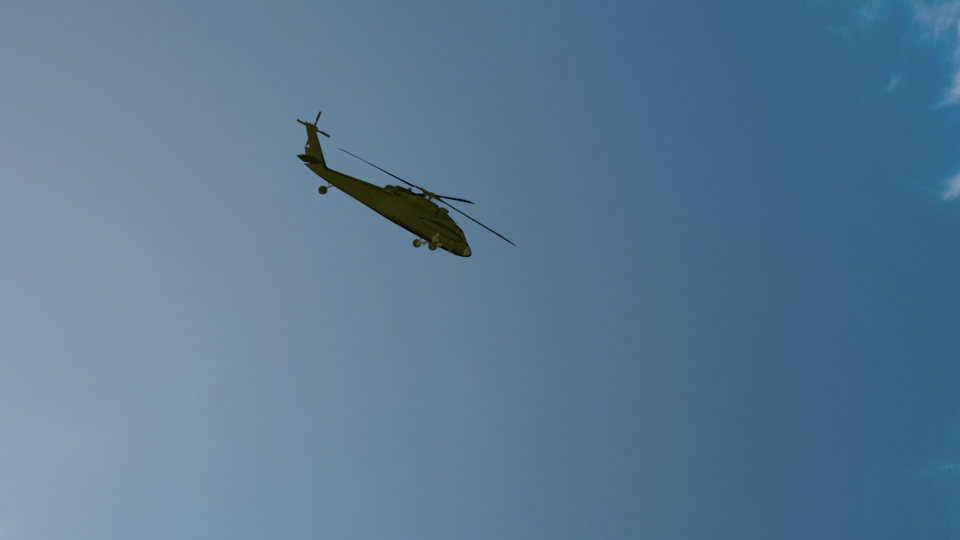heli: (292, 110, 473, 258)
